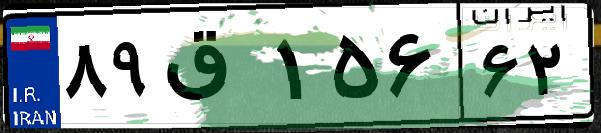1: (270, 28, 330, 110)
2: (525, 38, 570, 115)
5: (330, 28, 385, 110)
6: (385, 28, 445, 110), (475, 38, 525, 113)
8: (57, 26, 110, 100)
9: (110, 28, 158, 98)
ق: (158, 20, 270, 120)
